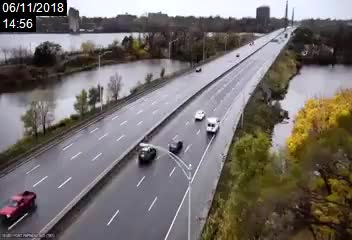personal_car: (1, 188, 38, 226), (135, 142, 157, 165), (166, 135, 184, 155), (205, 118, 221, 135), (193, 109, 205, 121), (193, 65, 203, 74)
